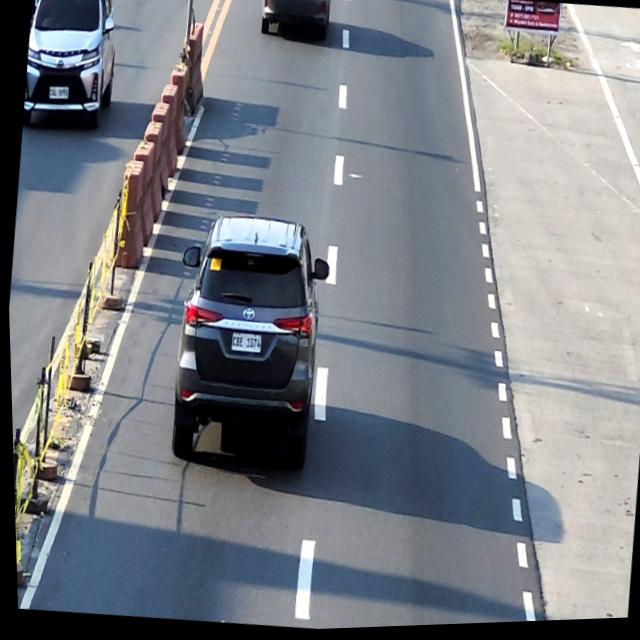Car: (159, 209, 337, 477), (19, 0, 124, 132), (259, 0, 333, 43)
License-Plate: (228, 334, 260, 356), (48, 86, 68, 100)
